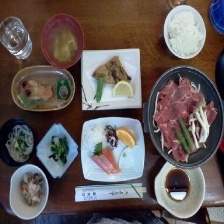rice: (168, 8, 205, 58)
